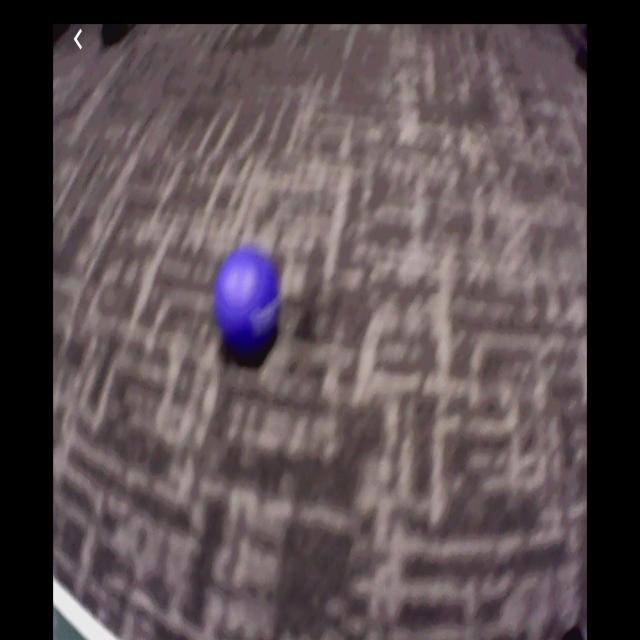ball: (218, 249, 281, 352)
